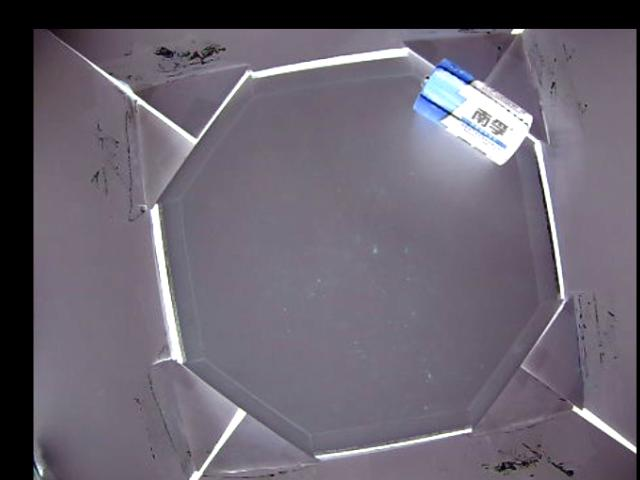Battery: (413, 58, 534, 166)
